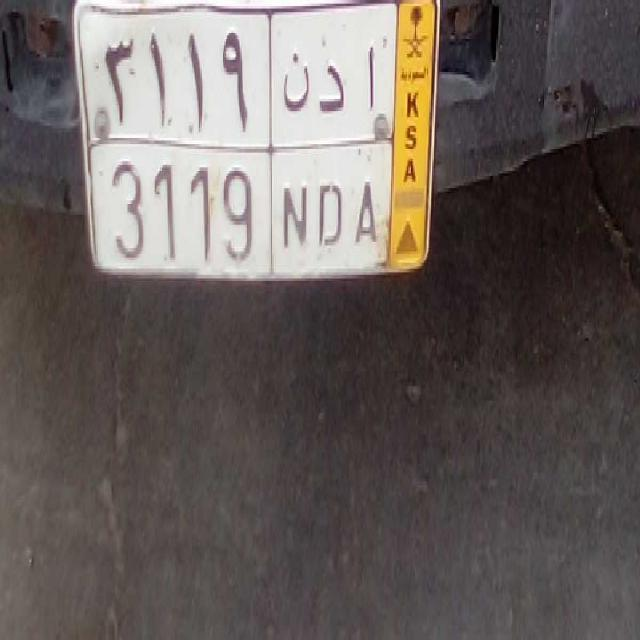license_plate: (92, 136, 392, 273)
